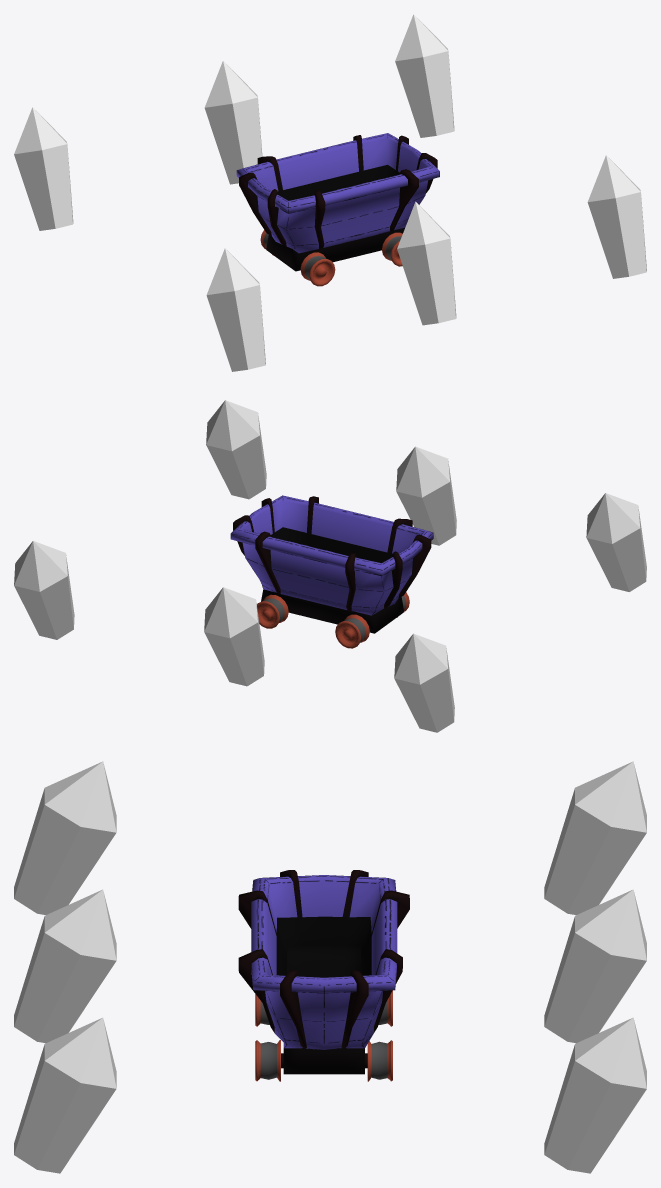
The model's file is OBSTACULOS.2.fbx.
3 views of the same model, one above another, from view 1: azimuth 30°, elevation 25°; view 2: azimuth 150°, elevation 25°; view 3: azimuth 270°, elevation 25° (orthographic). The views are drawn at different scales.
Visible parts, largest first — view 1: MineCart.002, Cristal.003, Cristal.004, Cristal.005, Cristal.001, Cristal.002, Cristal, MineCart.003, MineCart, MineCart.001, MineCart.004; view 2: MineCart.002, Cristal.002, Cristal.004, Cristal, Cristal.001, Cristal.005, Cristal.003, MineCart.003, MineCart, MineCart.001, MineCart.004; view 3: MineCart.002, Cristal.005, Cristal.001, Cristal.002, Cristal.003, Cristal.004, Cristal, MineCart.004, MineCart.003, MineCart.001, MineCart.
Part boxes in pixels (box(x1,y1,x2,y2)): MineCart.002: box(236, 133, 439, 253); Cristal.003: box(397, 201, 456, 325); Cristal.004: box(206, 248, 265, 371); Cristal.005: box(587, 155, 646, 278); Cristal.001: box(395, 14, 454, 137); Cristal.002: box(14, 107, 73, 230); Cristal: box(204, 61, 262, 184); MineCart.003: box(239, 135, 437, 248); MineCart: box(266, 227, 404, 271); MineCart.001: box(260, 230, 402, 286); MineCart.004: box(278, 164, 399, 200); MineCart.002: box(230, 495, 433, 615); Cristal.002: box(394, 633, 454, 732); Cristal.004: box(586, 493, 646, 591); Cristal: box(204, 587, 264, 686); Cristal.001: box(14, 541, 74, 639); Cristal.005: box(206, 400, 266, 499); Cristal.003: box(396, 446, 456, 545); MineCart.003: box(233, 496, 431, 610); MineCart: box(261, 589, 403, 633); MineCart.001: box(257, 592, 409, 648); MineCart.004: box(271, 527, 392, 562); MineCart.002: box(251, 875, 397, 1049); Cristal.005: box(14, 1017, 116, 1173); Cristal.001: box(544, 1017, 646, 1173); Cristal.002: box(544, 761, 646, 914); Cristal.003: box(14, 889, 116, 1043); Cristal.004: box(14, 761, 116, 914); Cristal: box(544, 889, 646, 1043); MineCart.004: box(276, 916, 371, 977); MineCart.003: box(238, 870, 409, 1048); MineCart.001: box(255, 990, 392, 1081); MineCart: box(281, 1048, 367, 1074).
Bounding box in the file's own units: 911 × 234 × 835.
